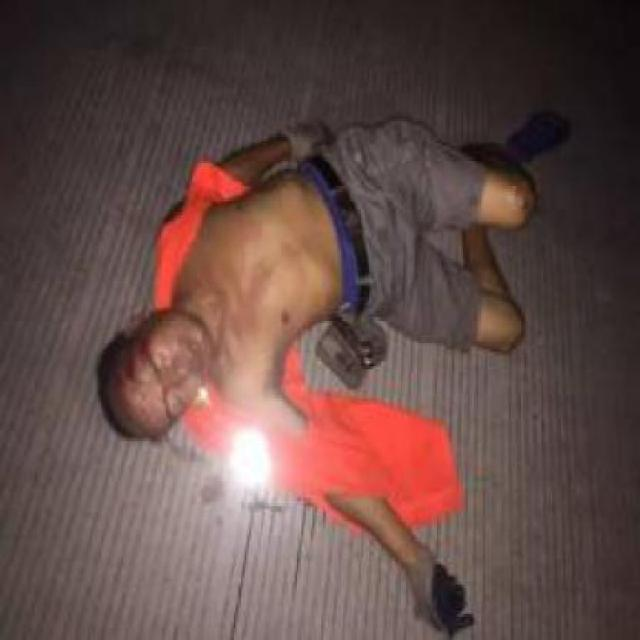fall: (69, 68, 562, 637)
